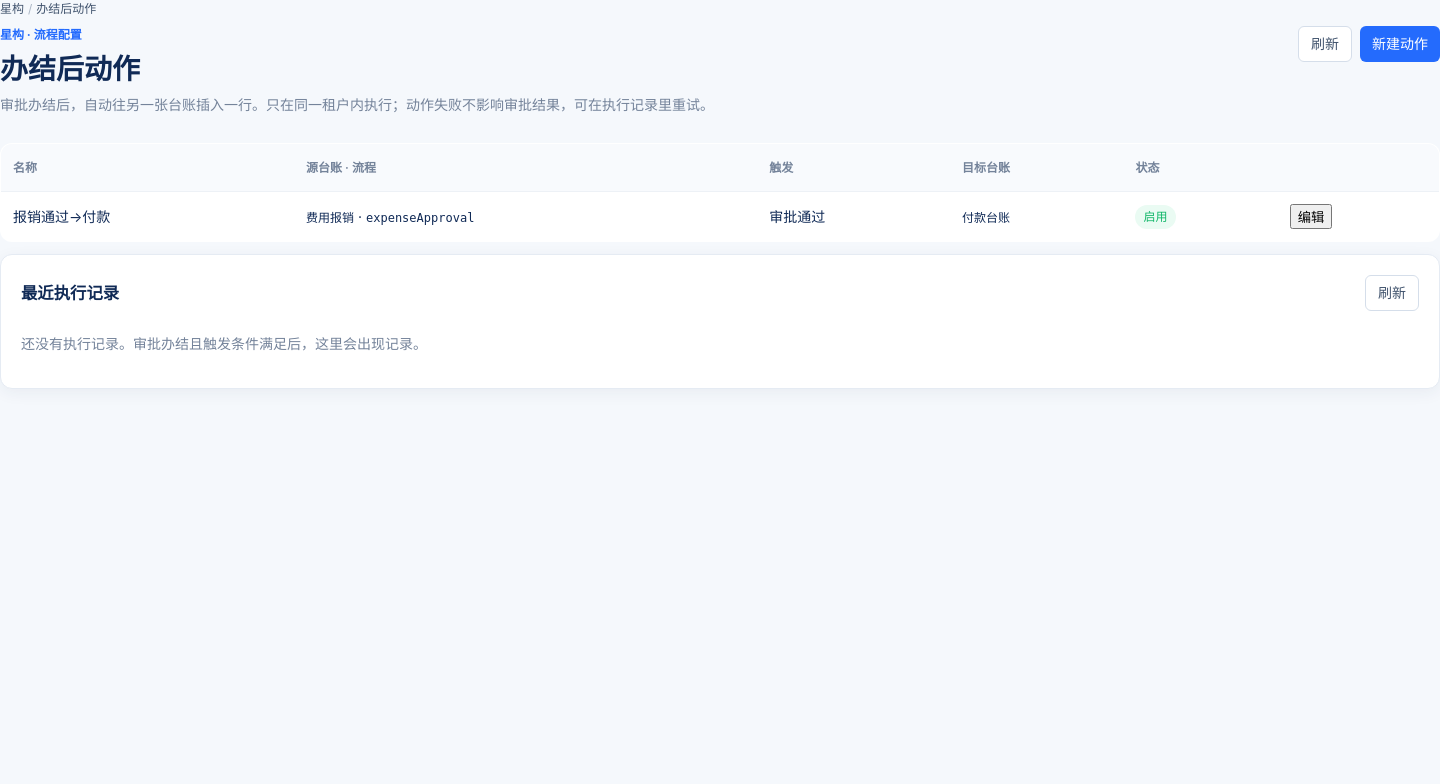
Test case: FA5 post-completion actions page › shows the server's validation problems next to the editor
The width and height of the screenshot is (1440, 784).
Click the button "编辑" at point(1311, 216), box [1290, 204, 1332, 229]
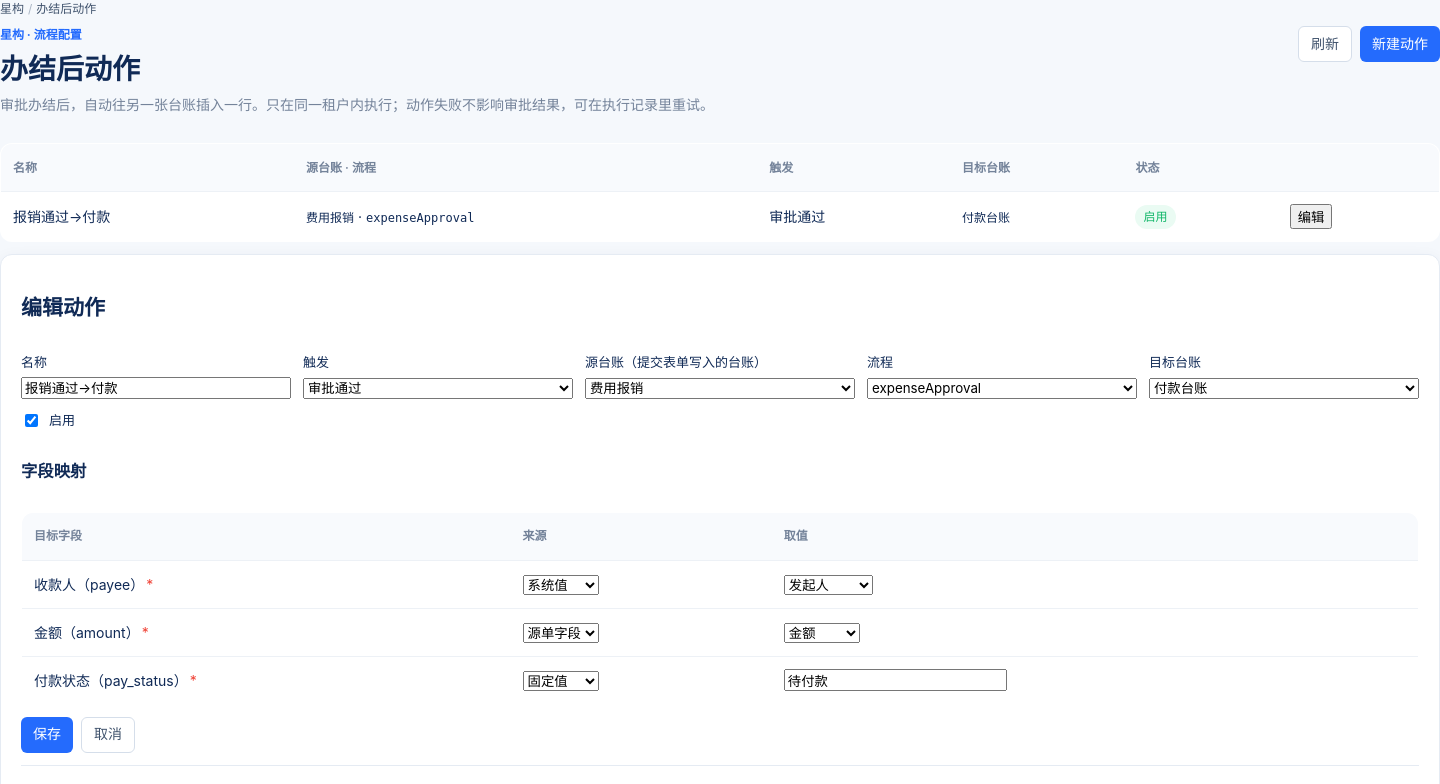
Click the button with test id "action-save" at point(47, 735), box [21, 717, 73, 753]
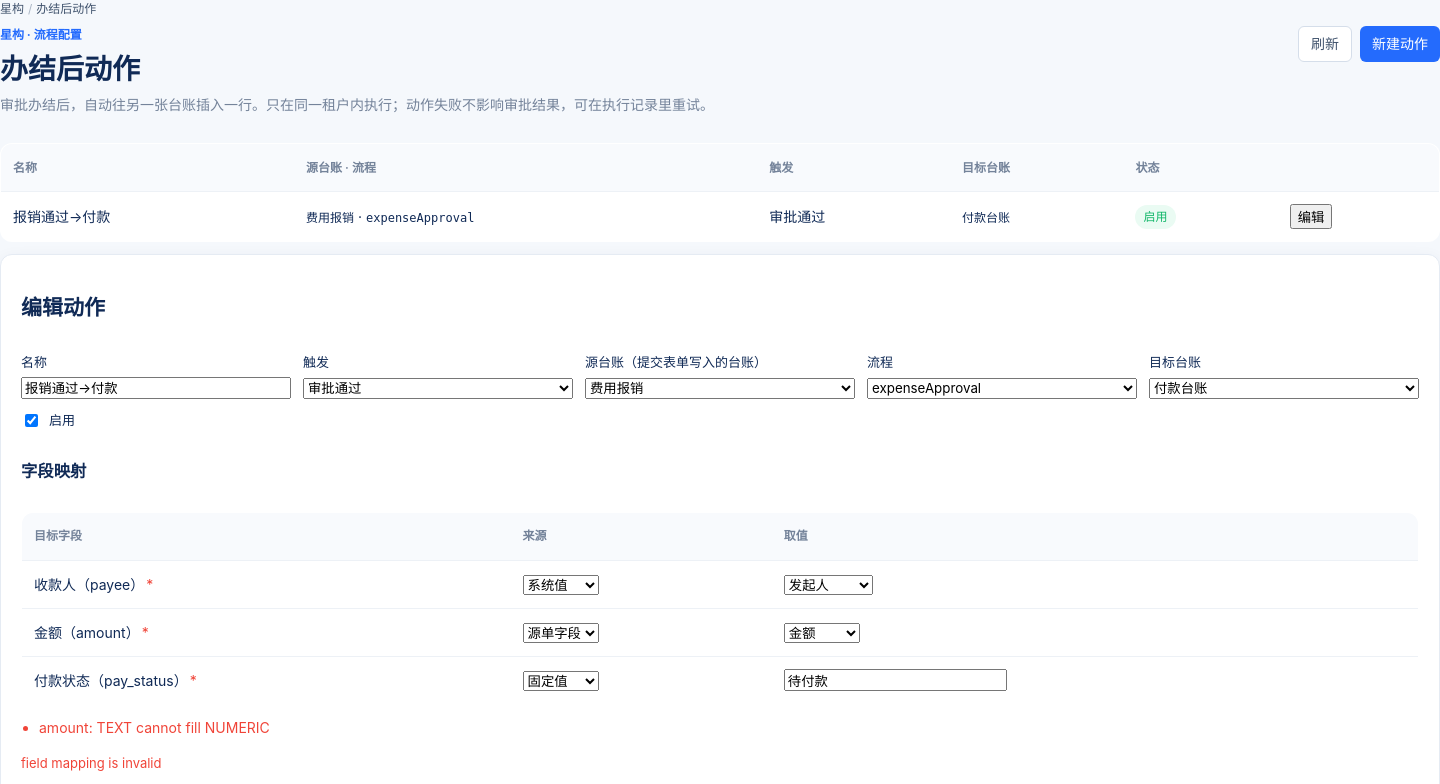
Expected: the list with test id "action-problems" reads "amount: TEXT cannot fill NUMERIC", [39, 719, 270, 736]
